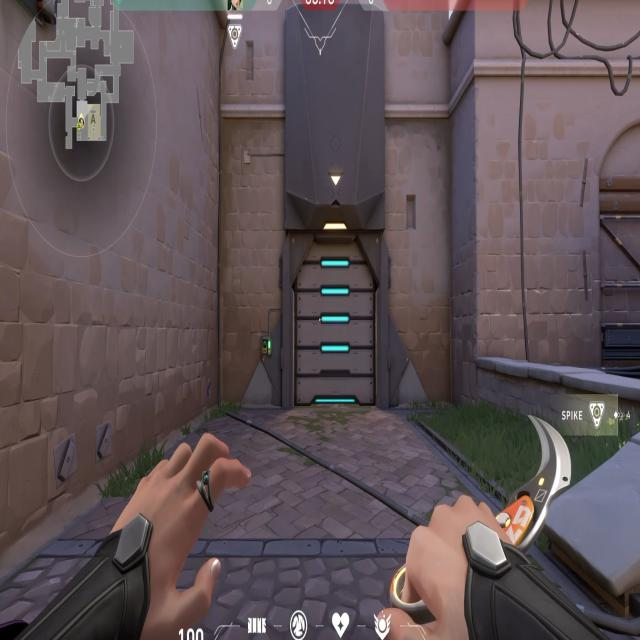A_Door: (284, 209, 384, 419)
